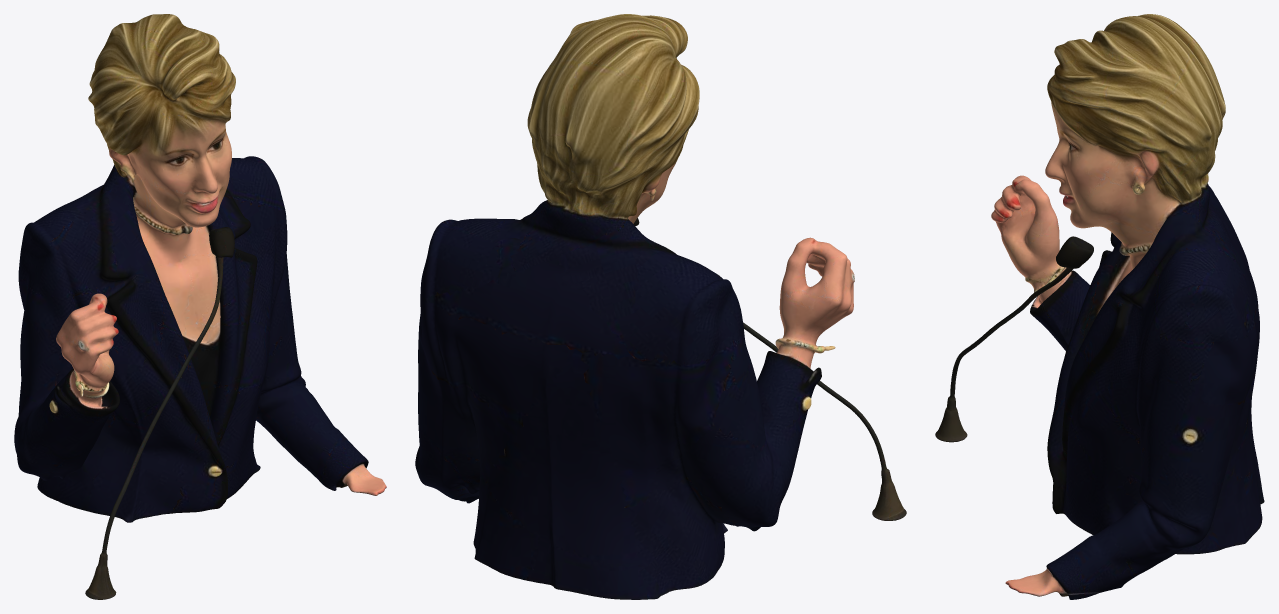
File: virginia_woolf_compressed (2).glb
3 renders of one model, left to right at view 1: azimuth 30°, elevation 25°; view 2: azimuth 150°, elevation 25°; view 3: azimuth 270°, elevation 25°, orthographic. The views are drawn at different scales.
Size of the model in its own units: 1.41 by 1.9 by 1.15.
1 material, 1 textured.
